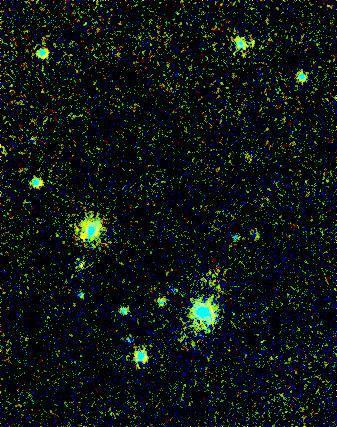star: (59, 254, 89, 284)
